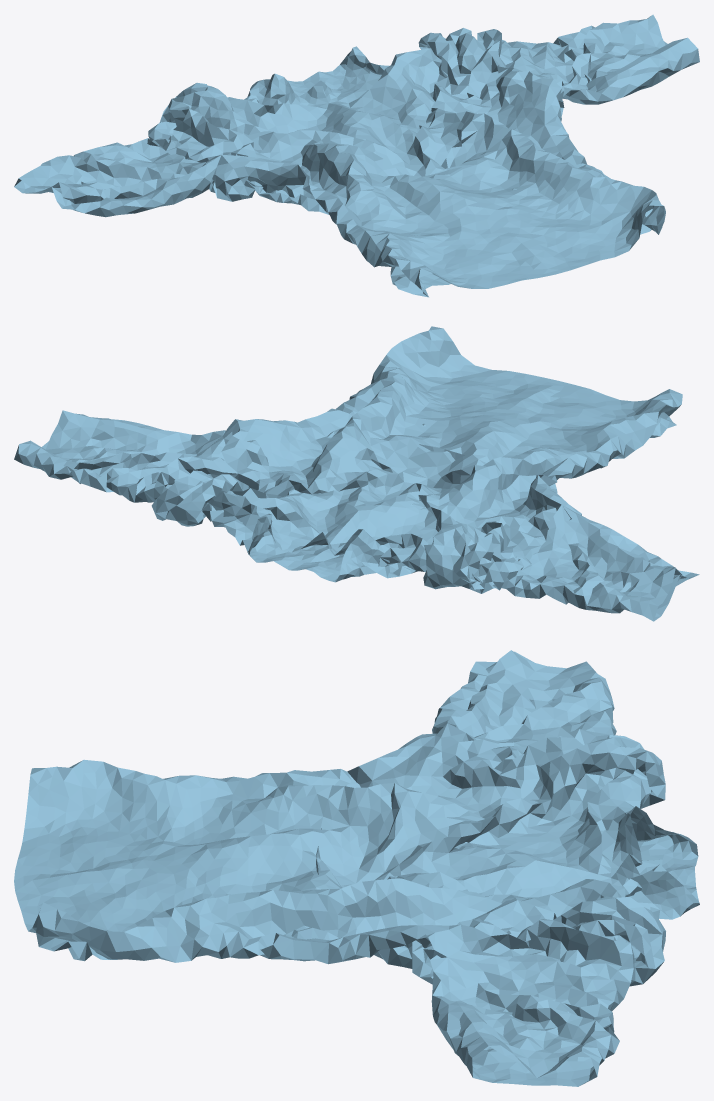
The model's file is frame_01.glb.
3 renders of one model, top to bottom at view 1: azimuth 30°, elevation 25°; view 2: azimuth 150°, elevation 25°; view 3: azimuth 270°, elevation 25°, orthographic. The views are drawn at different scales.
Visible parts, largest first — view 1: frame_01.obj; view 2: frame_01.obj; view 3: frame_01.obj.
Part boxes in pixels (x1,y1,x2,y2): frame_01.obj: [14, 14, 699, 297]; frame_01.obj: [14, 326, 699, 621]; frame_01.obj: [14, 650, 699, 1086].
Bounding box in the file's own units: 1.9 × 0.1594 × 1.35.
